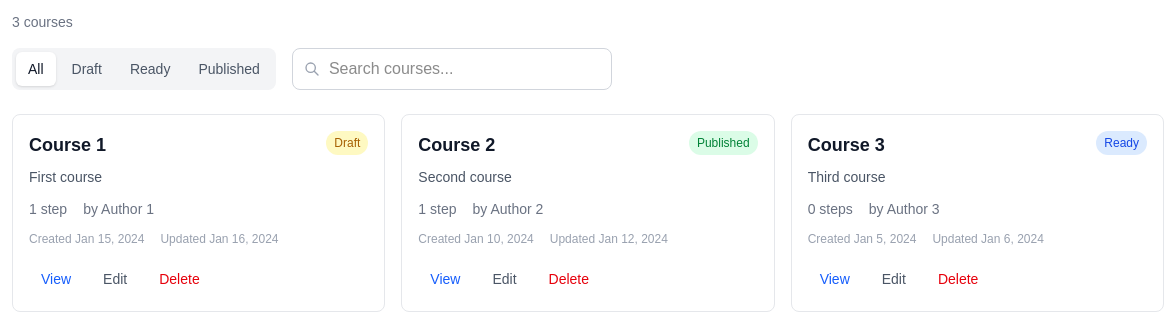
Test: CourseList › Search › should filter courses by search term
Type "Course 1" into the field with placeholder "Search courses...".
click(452, 69); type("Course 1")  # box [292, 48, 612, 90]
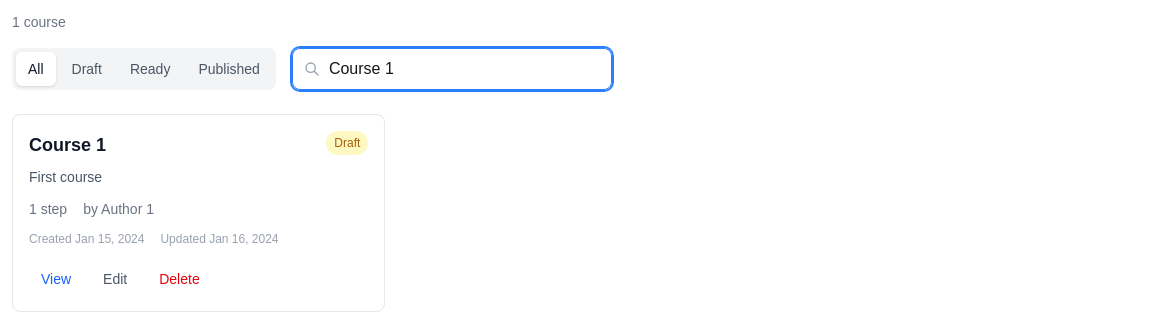
Expected: the heading "Course 1" is shown, [29, 131, 106, 159]
Expected: the heading "Course 2" is gone
Expected: the heading "Course 3" is gone
